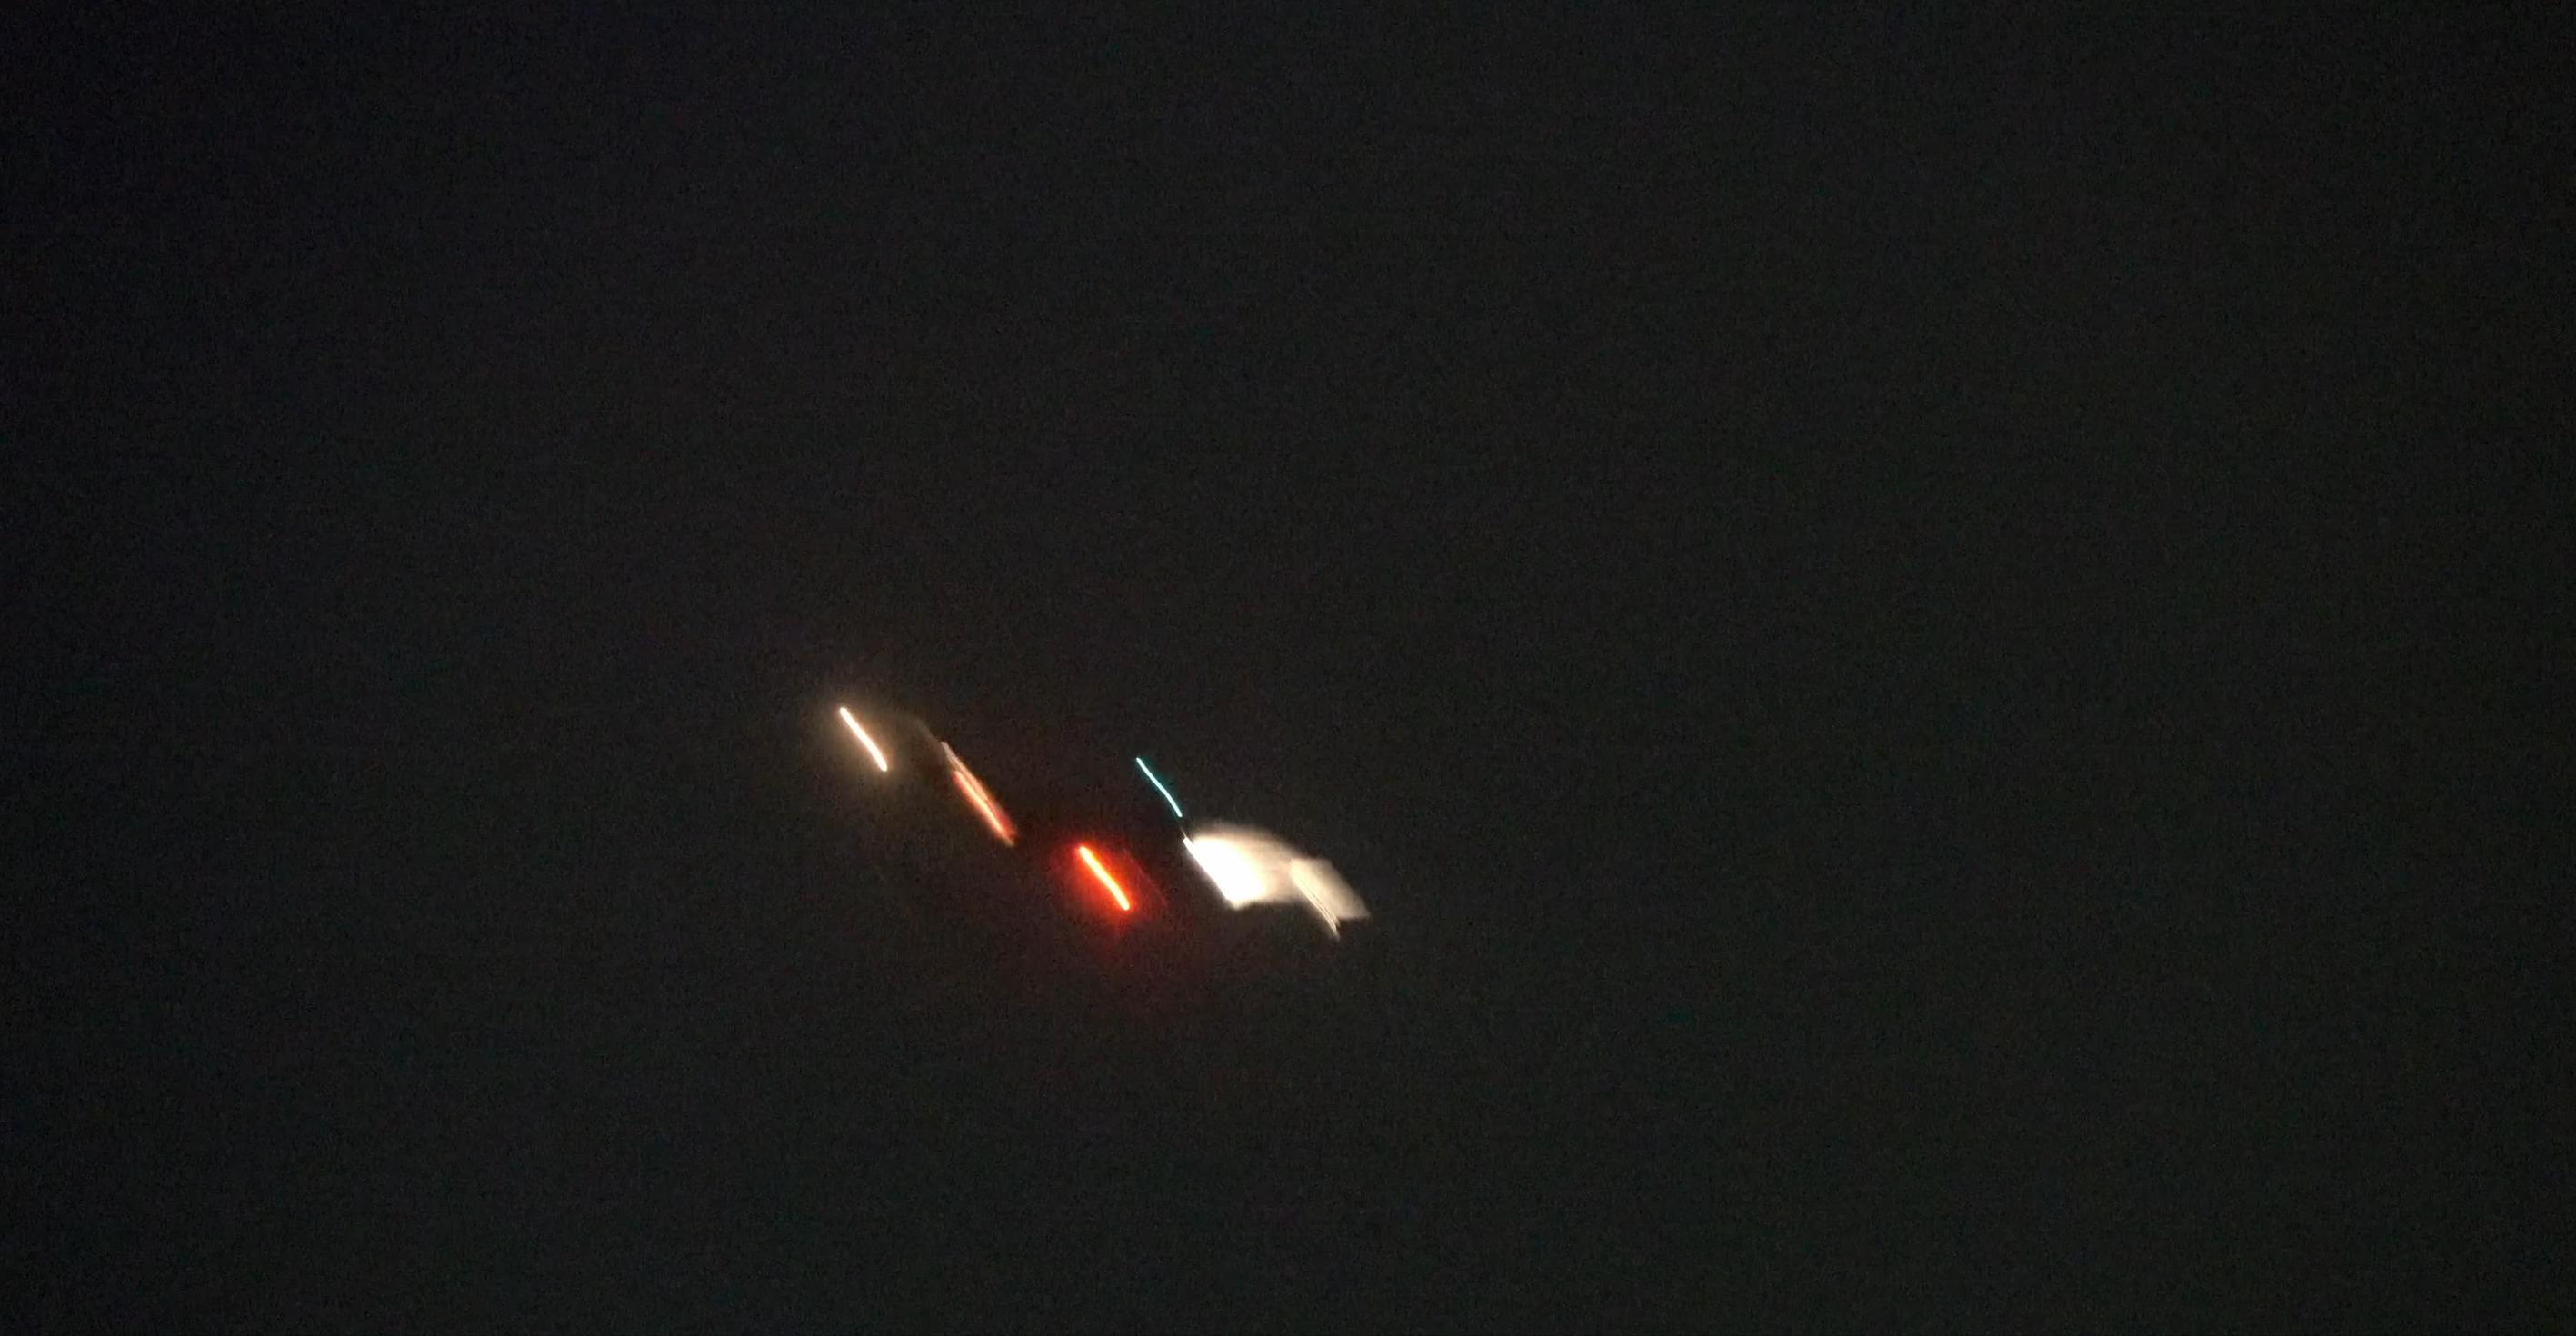Plane: (891, 733, 1506, 983)
